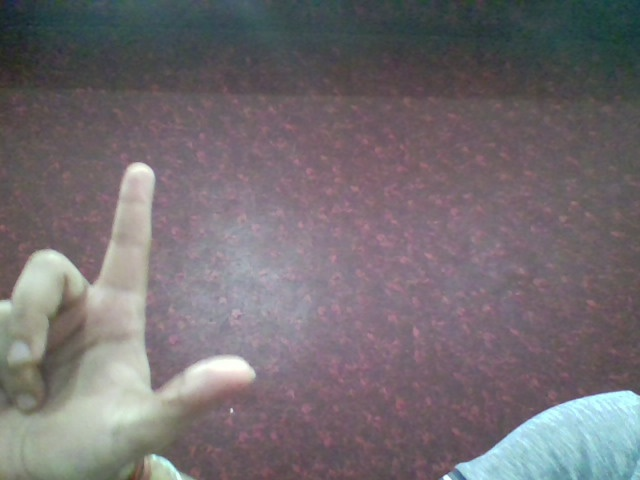l: (5, 151, 275, 470)
